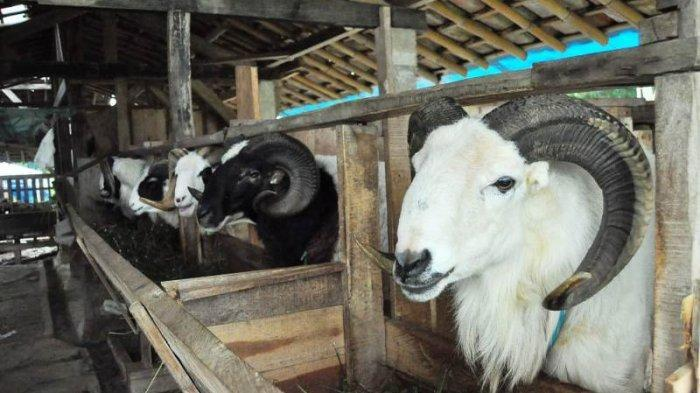Sheep: (369, 75, 634, 340), (189, 122, 312, 240), (139, 140, 227, 228), (128, 153, 184, 220), (92, 142, 142, 204)
